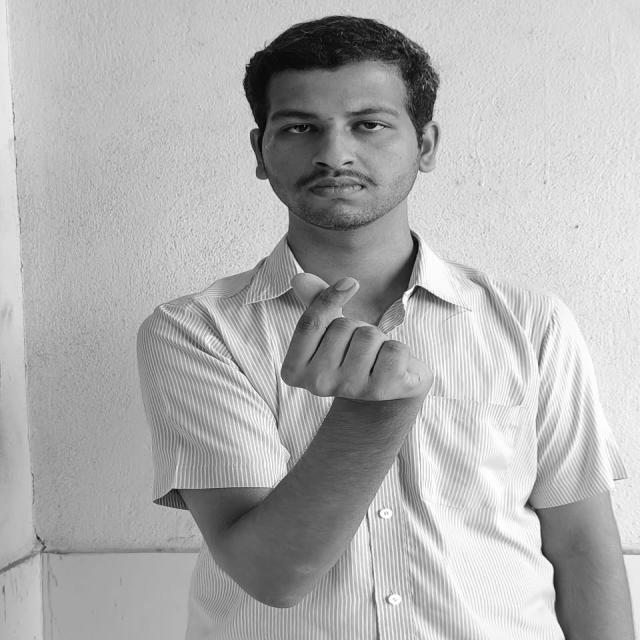Grattitude: (279, 272, 434, 409)
